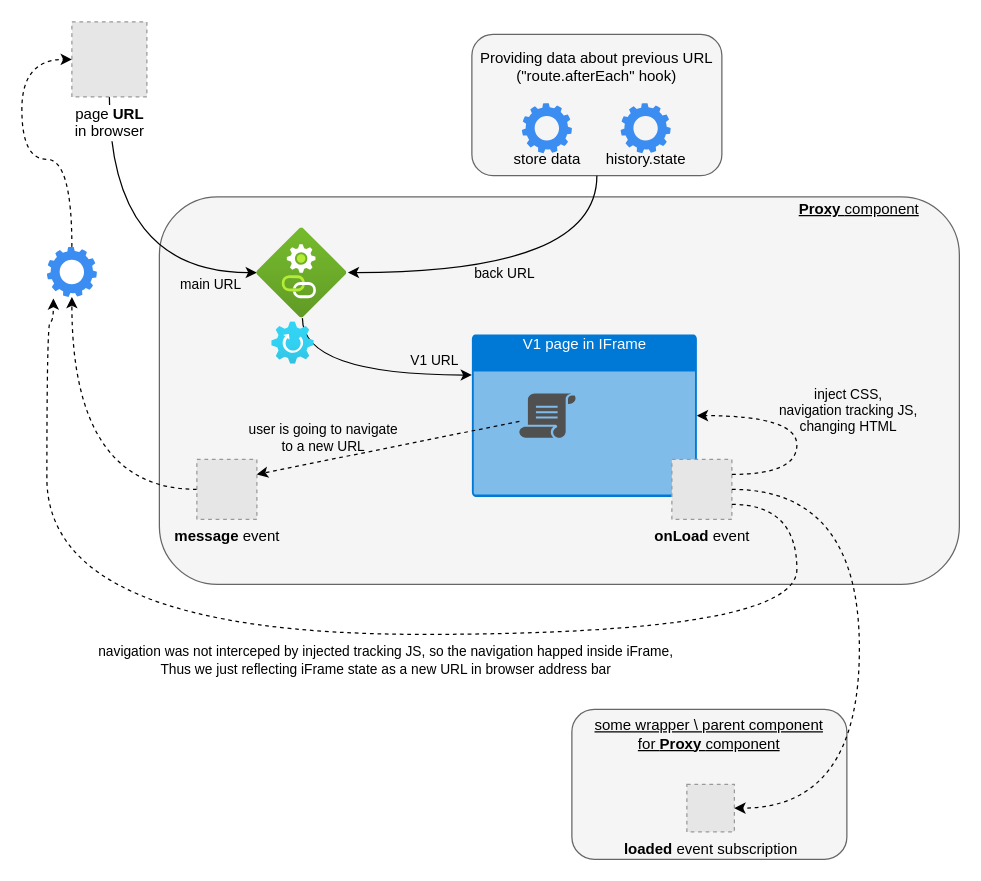
Image size: 981x881. Some labels were removed from this diagram. Grey dashed boxes stand in for pictures. Each missing label, with the centre of its shape:
injected JS for tracking navigation: the point at 547,415
loadProxy func: the point at 301,273
rewrite URL: the point at 292,342
router.push / router.replace: the point at 71,271
